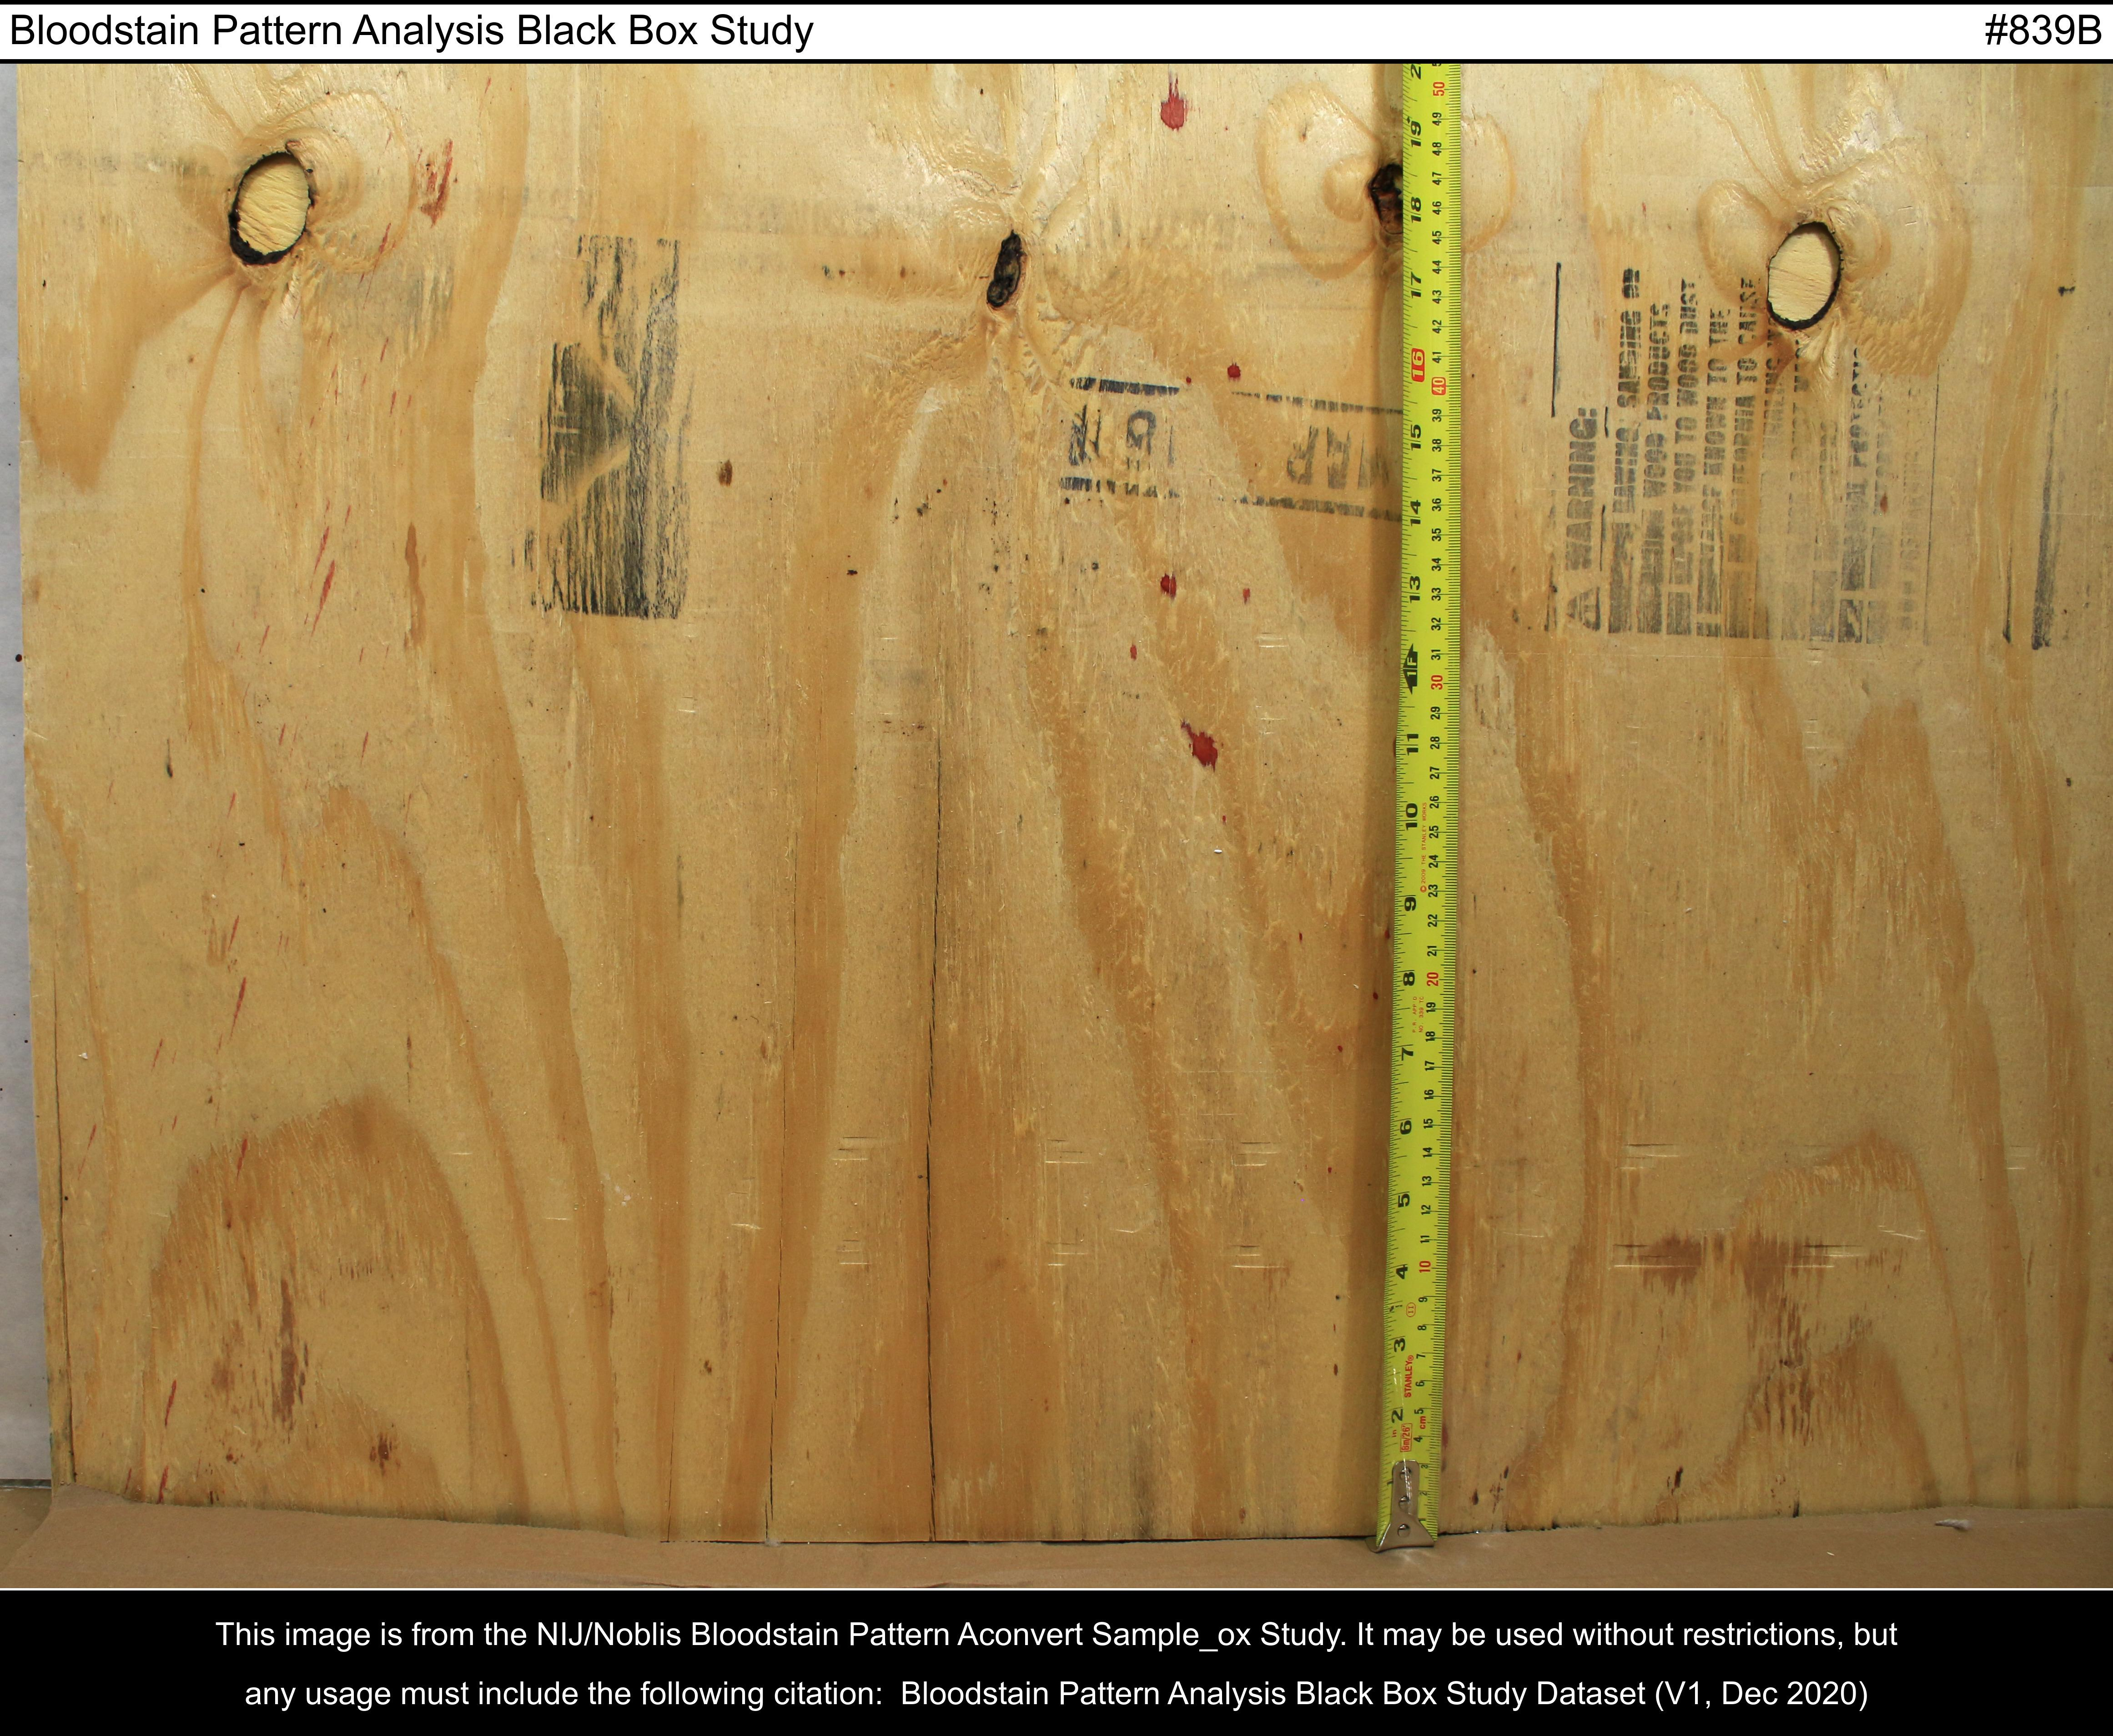Impact: (70, 81, 1374, 1541)
